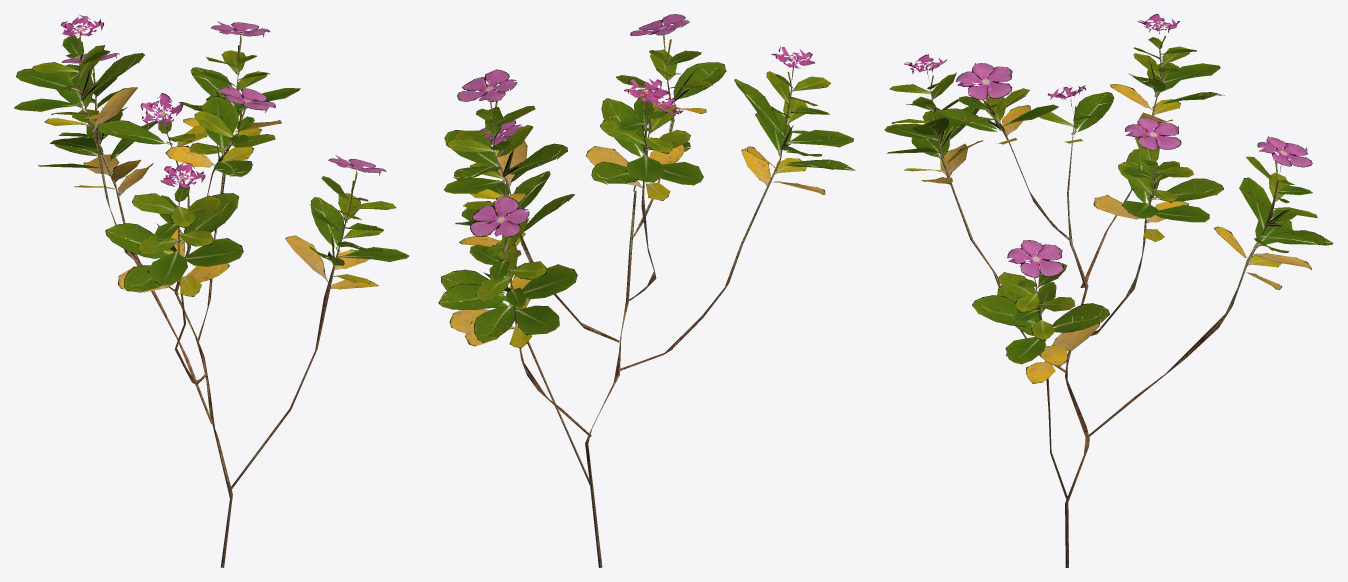
Rendered from periwinkle_plant_0.gltf.
3 views of the same model, side by side, from view 1: azimuth 30°, elevation 25°; view 2: azimuth 150°, elevation 25°; view 3: azimuth 270°, elevation 25° (orthographic). The views are drawn at different scales.
Visible parts, largest first — view 1: periwinkle_plant_01_LOD0; view 2: periwinkle_plant_01_LOD0; view 3: periwinkle_plant_01_LOD0.
Part boxes in pixels (x1,y1,x2,y2): periwinkle_plant_01_LOD0: (14, 14, 408, 567); periwinkle_plant_01_LOD0: (438, 14, 855, 567); periwinkle_plant_01_LOD0: (884, 14, 1333, 567).
Bounding box in the file's own units: 0.2609 × 0.3991 × 0.3209.
1 material, 1 textured.
